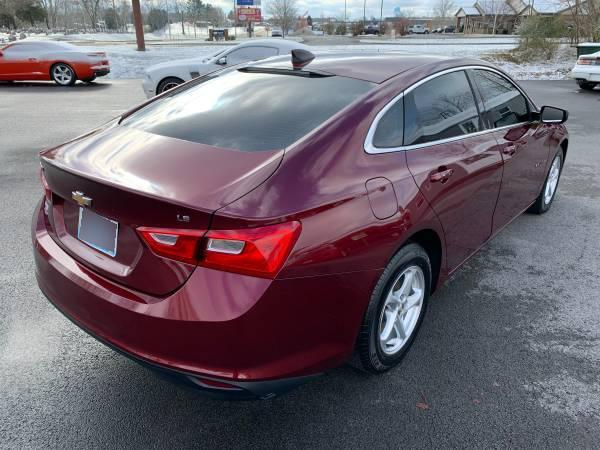Front_Right_Door: (485, 121, 547, 240)
Front_Right_Window: (461, 70, 544, 132)
Rear_Bumper: (32, 197, 379, 391)
Rear_Fender: (208, 101, 432, 285)
Rear_Right_Door: (403, 134, 501, 287)
Rear_Right_Window: (397, 73, 486, 154)
Rear_Windshield: (115, 69, 375, 153)
Right_Taillight: (134, 221, 299, 279)
Roof: (241, 53, 513, 153)
Tailgate: (43, 123, 281, 299)
Wheel: (359, 249, 433, 377), (539, 156, 566, 210)
